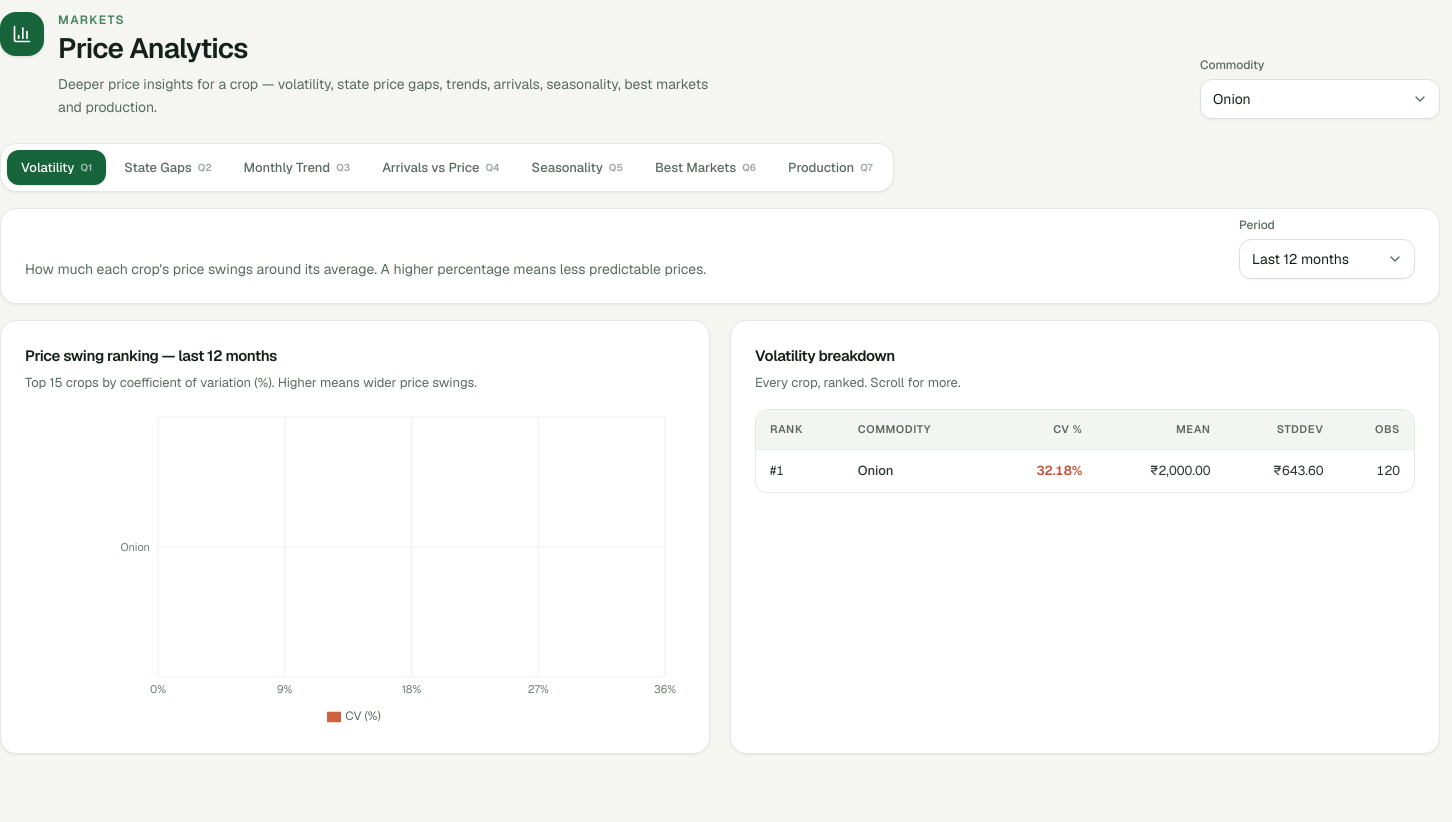
Test: Seasonal index baseline (centered on 100) › labels the Q5 chart with the 100 baseline subtitle
The image size is (1452, 822).
Check: the text "32.18%" is shown, box 990,450 -> 1096,492
Press the mouse on the tab "Seasonality Q5": (577,168) 518,150 -> 637,185
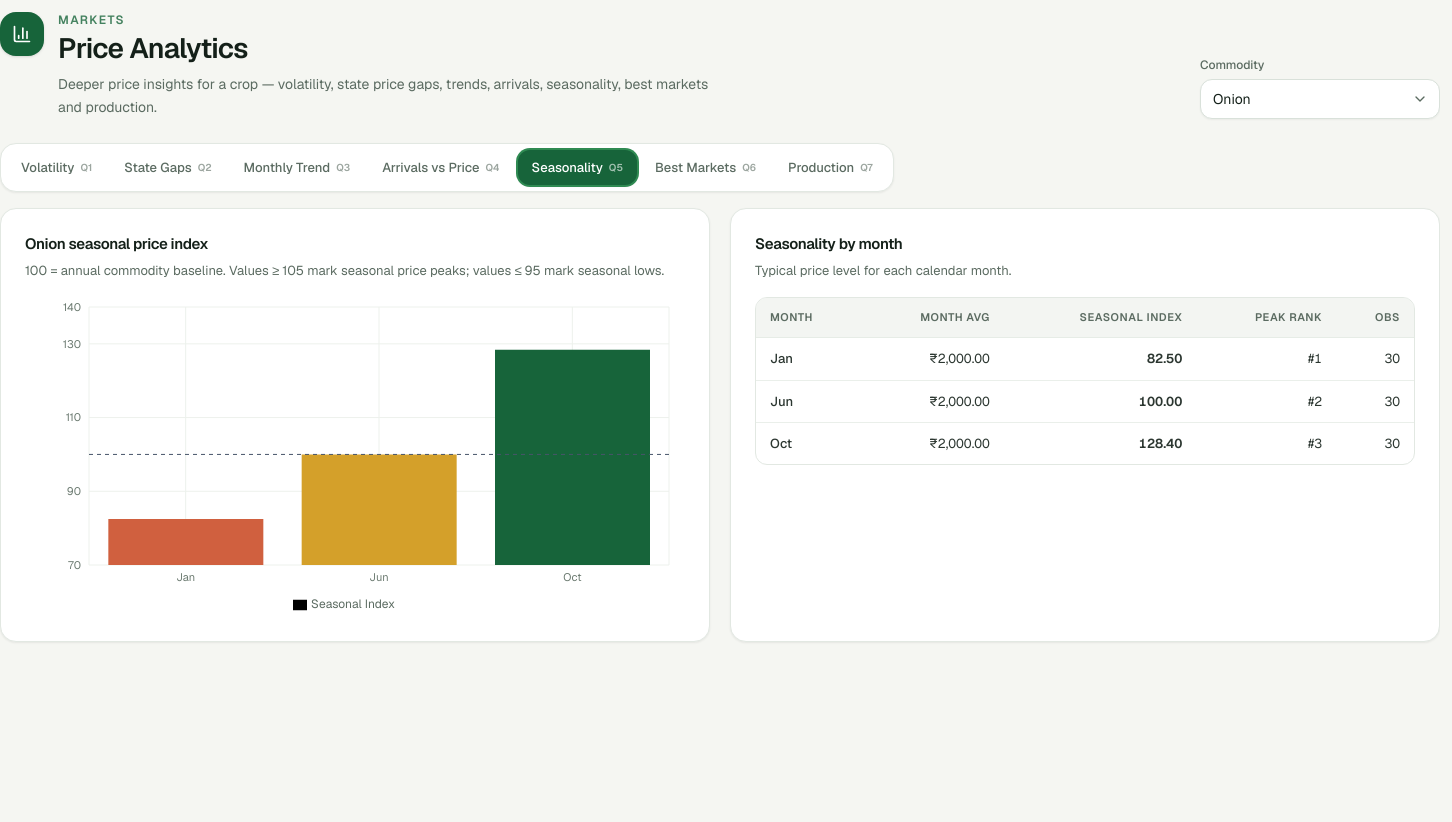
Check: the text "≥ 105 mark seasonal price peaks; values ≤ 95 mark seasonal lows" is shown, box 25,262 -> 664,279
